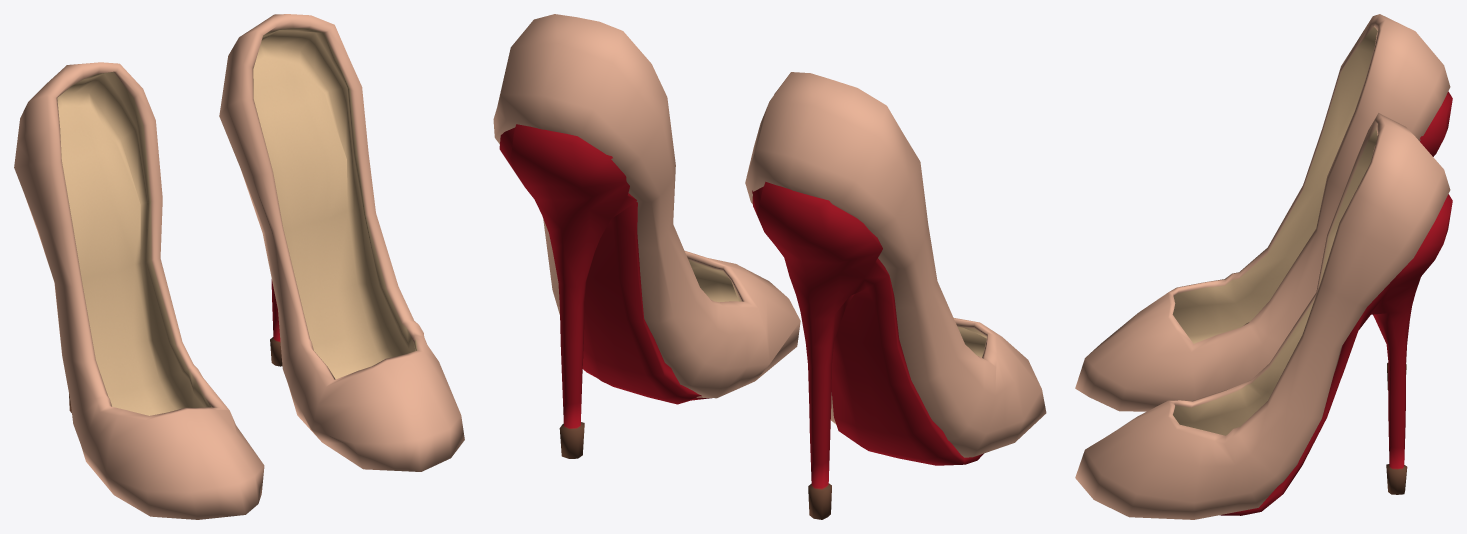
The model's file is High Heels.fbx.
3 views of the same model, side by side, from view 1: azimuth 30°, elevation 25°; view 2: azimuth 150°, elevation 25°; view 3: azimuth 270°, elevation 25° (orthographic). The views are drawn at different scales.
Visible parts, largest first — view 1: HIGH_HEELS.001; view 2: HIGH_HEELS.001; view 3: HIGH_HEELS.001.
Boxes of the visible parts, <box> form: HIGH_HEELS.001: <box>14,14,464,519</box>; HIGH_HEELS.001: <box>493,14,1046,519</box>; HIGH_HEELS.001: <box>1075,14,1452,519</box>.
Size of the model in its own units: 290 by 294 by 267.
Materials: 1 (1 with a texture image).
